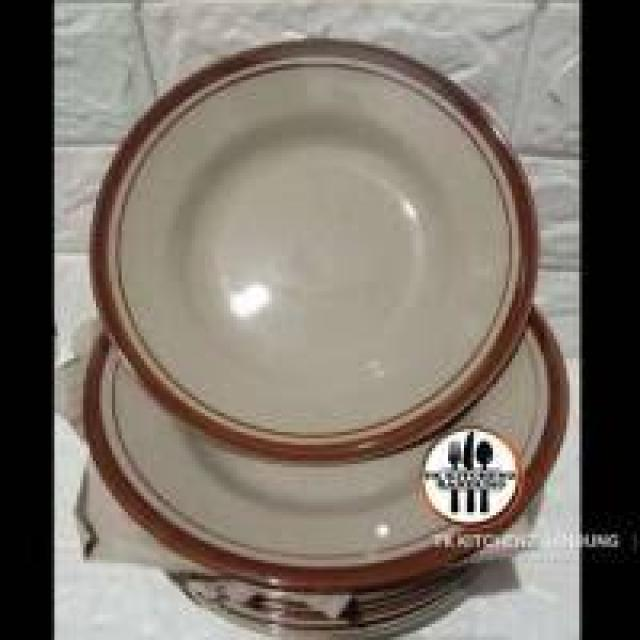Plate: (79, 32, 574, 430)
